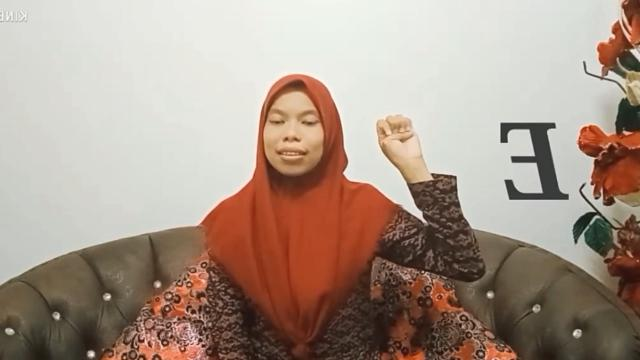E: (374, 114, 424, 168)
